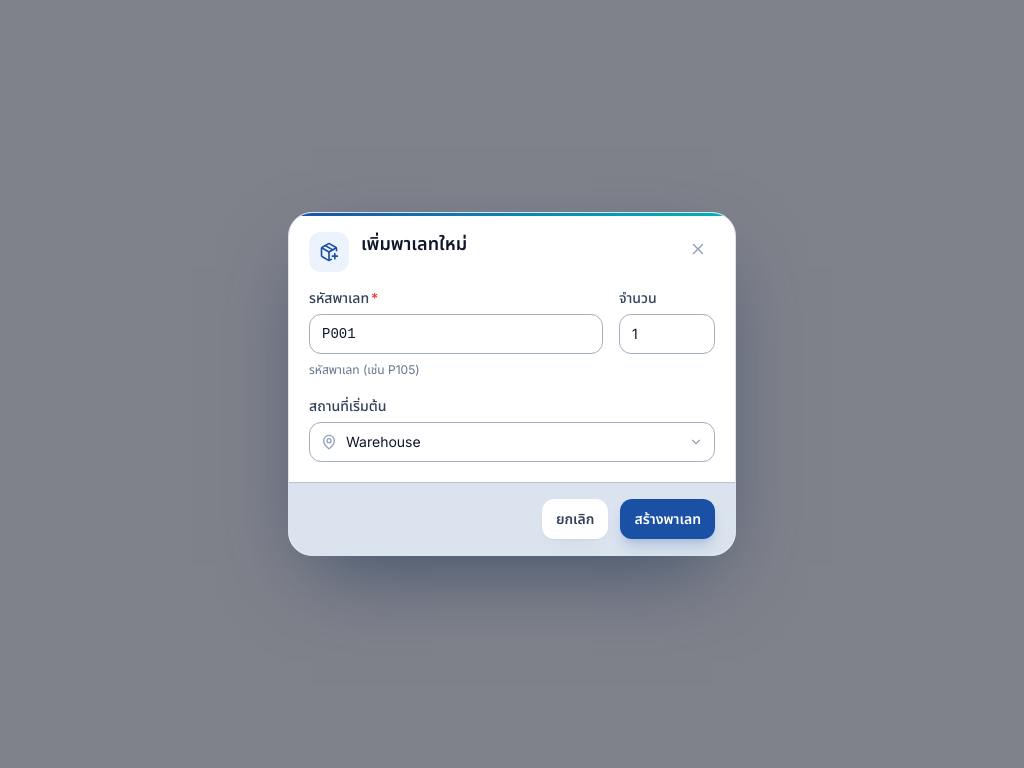
Scenario: AddPalletModal › รหัสที่ไม่มีเลขท้าย ล็อกจำนวนเป็น 1 พร้อมบอกเหตุผล
Step 1. Replace the text in the field labelled "รหัสพาเลท" with "TEST" → [456, 334], box [309, 314, 603, 354]
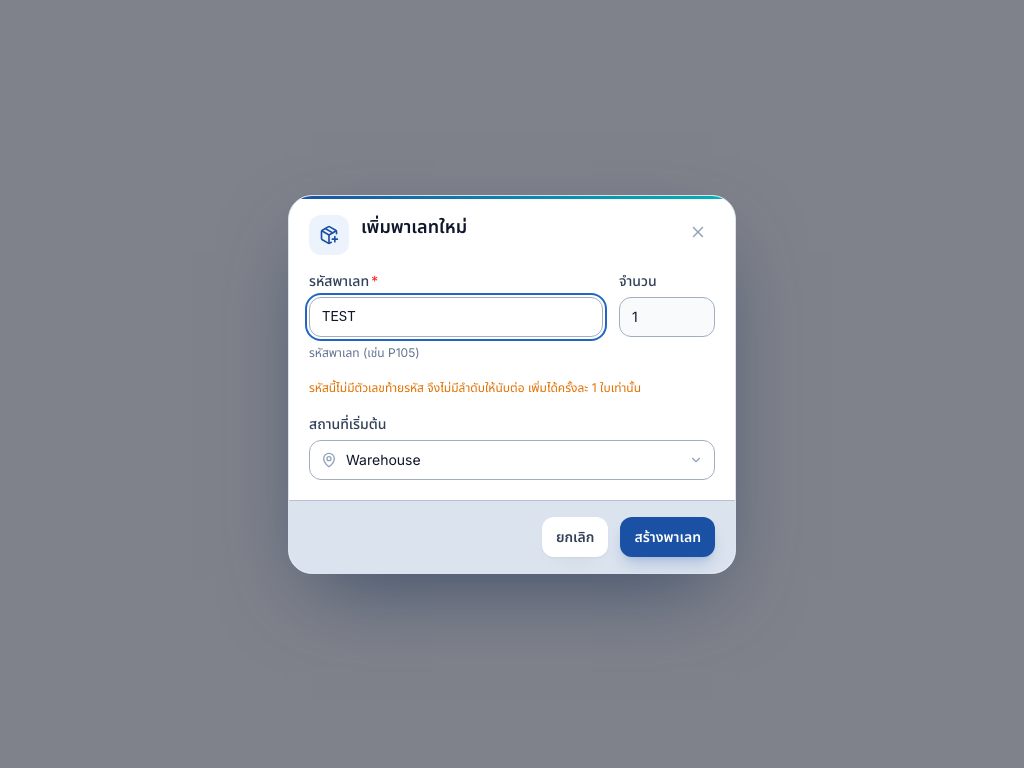
expect the number field labelled "จำนวน" holds "1": met, box [619, 296, 715, 336]
expect the number field labelled "จำนวน" is disabled: met, box [619, 296, 715, 336]
expect the text "ไม่มีตัวเลขท้ายรหัส" is shown: met, box [309, 380, 641, 395]
